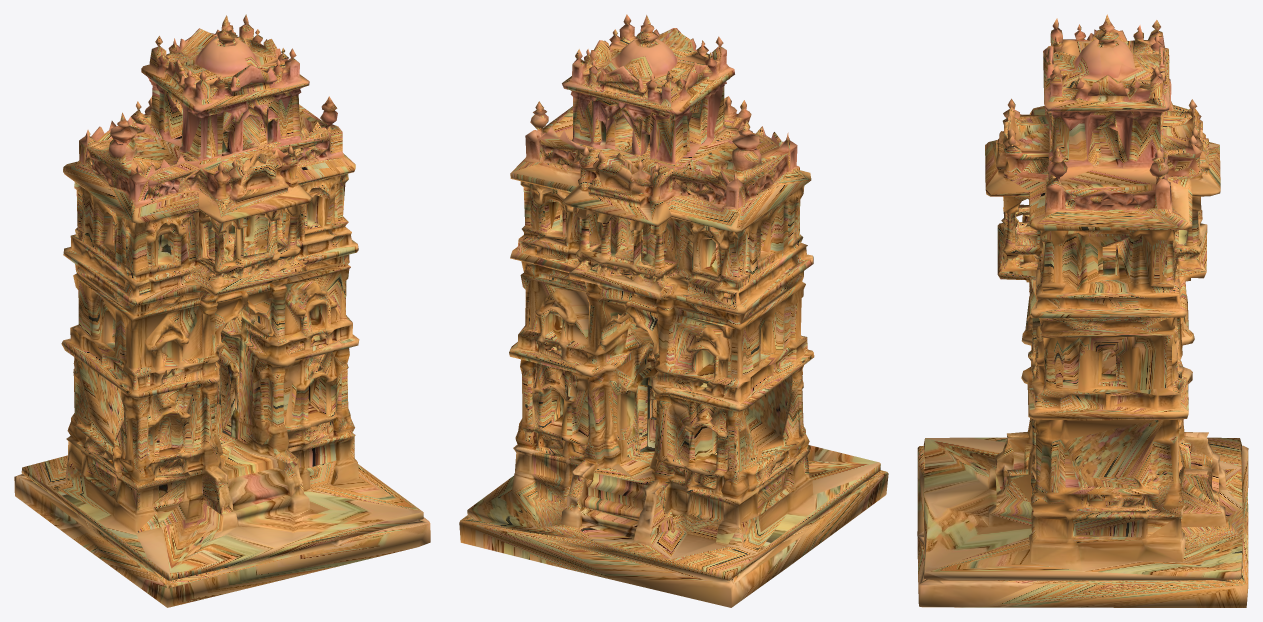
The model's file is Sandstone_Palace_Mode.glb.
3 renders of one model, left to right at view 1: azimuth 30°, elevation 25°; view 2: azimuth 150°, elevation 25°; view 3: azimuth 270°, elevation 25°, orthographic. The views are drawn at different scales.
Parts seen in each view (by area): view 1: Sandstone_Palace_Mode; view 2: Sandstone_Palace_Mode; view 3: Sandstone_Palace_Mode.
Part boxes in pixels (left/top/right/bottom): Sandstone_Palace_Mode: left=14, top=14, right=430, bottom=607; Sandstone_Palace_Mode: left=459, top=14, right=888, bottom=607; Sandstone_Palace_Mode: left=917, top=14, right=1248, bottom=607.
Bounding box in the file's own units: 1.06 × 1.9 × 1.07.
Materials: 1 (1 with a texture image).
